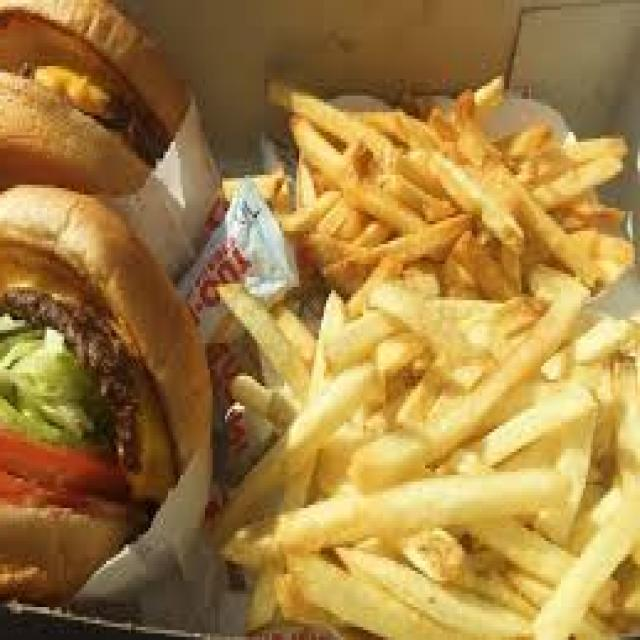Burger: (2, 0, 225, 607)
French Fries: (229, 34, 640, 640)
